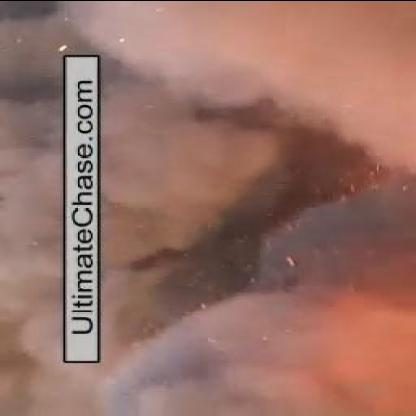-: (103, 49, 386, 395), (2, 80, 61, 378)
